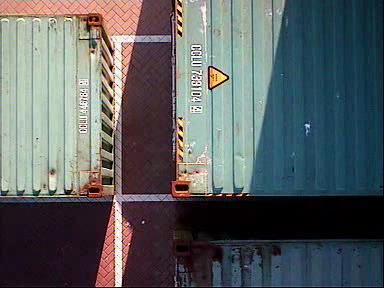groundmarker_2: (48, 31, 102, 56), (45, 194, 99, 218), (49, 1, 103, 24)
